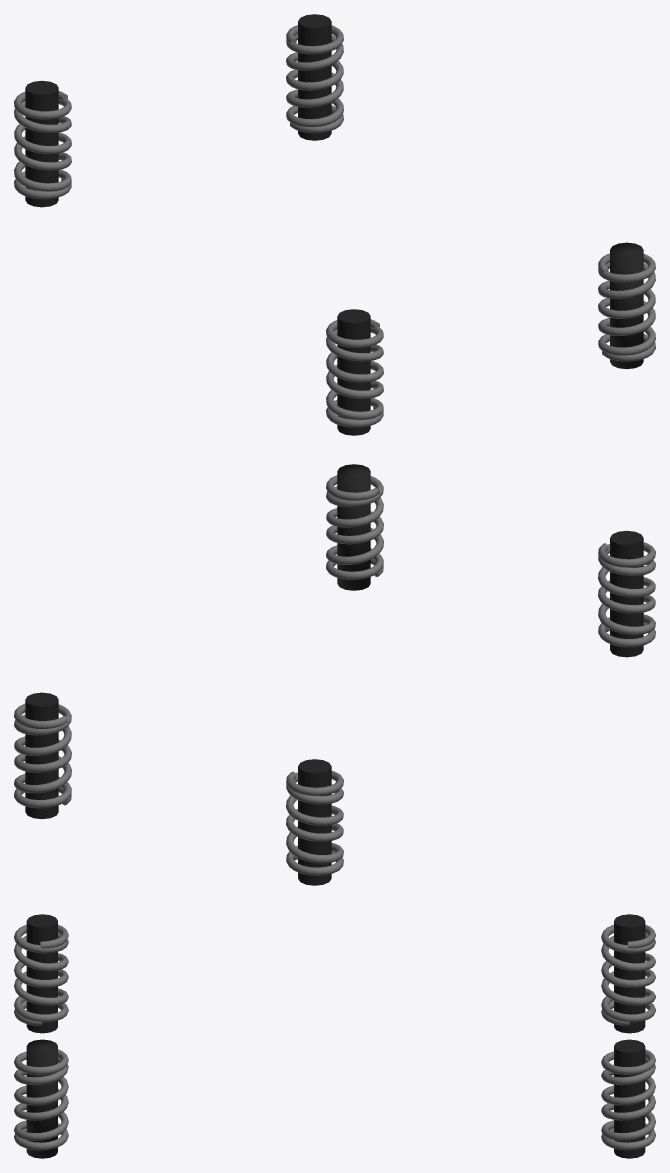
File: springs.glb
3 views of the same model, one above another, from view 1: azimuth 30°, elevation 25°; view 2: azimuth 150°, elevation 25°; view 3: azimuth 270°, elevation 25° (orthographic). The views are drawn at different scales.
Parts seen in each view (by area): view 1: back_right_spring, back_left_spring, front_right_spring, front_left_spring; view 2: front_right_spring, back_right_spring, front_left_spring, back_left_spring; view 3: back_left_spring, front_left_spring, front_right_spring, back_right_spring.
Part boxes in pixels (<box>): back_right_spring: <box>14,80,71,207</box>; back_left_spring: <box>286,14,343,140</box>; front_right_spring: <box>326,309,383,435</box>; front_left_spring: <box>598,242,655,369</box>; front_right_spring: <box>598,530,655,657</box>; back_right_spring: <box>286,759,343,885</box>; front_left_spring: <box>326,464,383,590</box>; back_left_spring: <box>14,692,71,819</box>; back_left_spring: <box>601,1039,655,1158</box>; front_left_spring: <box>14,1039,68,1158</box>; front_right_spring: <box>14,914,68,1033</box>; back_right_spring: <box>601,914,655,1033</box>.
Bounding box in the file's own units: 1.11 × 0.3713 × 2.04.
1 material, 1 textured.
